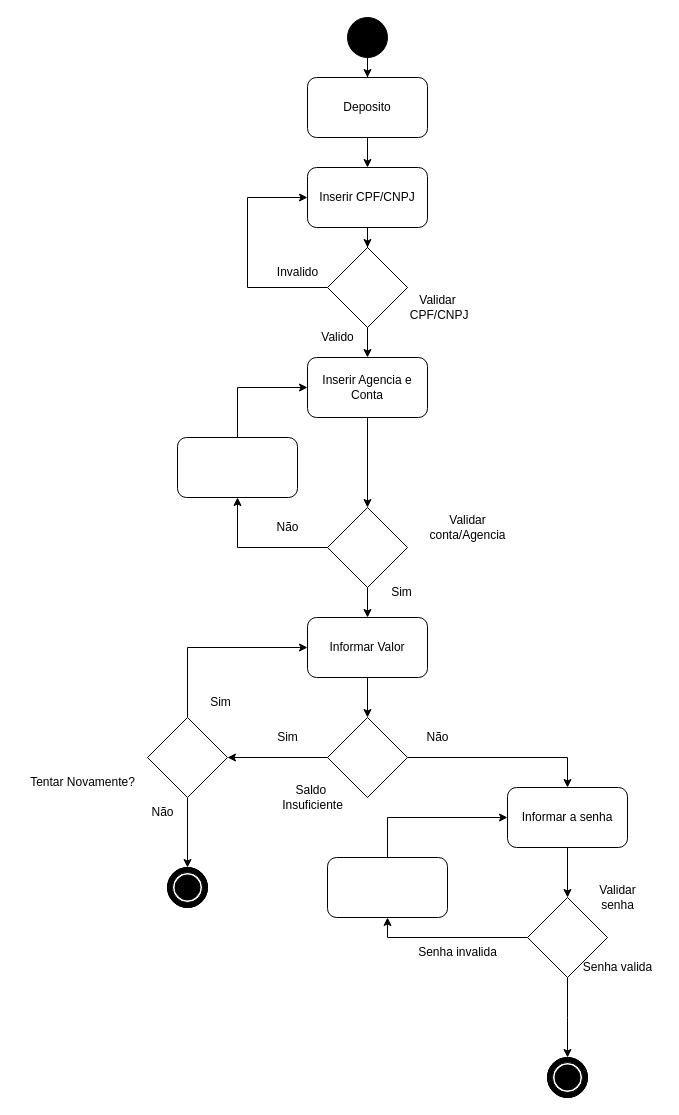
This 679x1115 diagram has some shape labels left out. Each missing label, with the box of its shape:
Conta ou Agencia não identificada: (176, 436, 298, 498)
Senha Incorreta: (326, 856, 448, 918)
